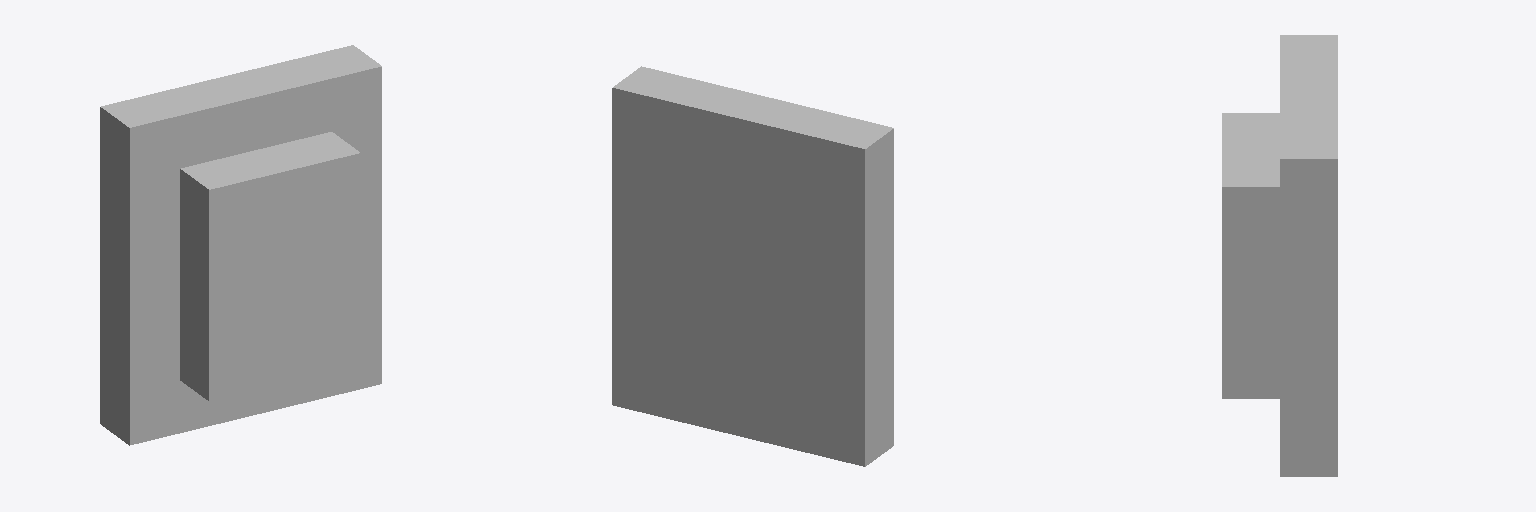
File: switch.obj
3 renders of one model, left to right at view 1: azimuth 30°, elevation 25°; view 2: azimuth 150°, elevation 25°; view 3: azimuth 270°, elevation 25°, orthographic.
Parts seen in each view (by area): view 1: object 1; view 2: object 1; view 3: object 1.
Part boxes in pixels (bbox=[...]): object 1: bbox=[100, 45, 381, 445]; object 1: bbox=[612, 66, 893, 466]; object 1: bbox=[1222, 35, 1337, 476].
Size of the model in its own units: 0.5 by 0.6 by 0.2.